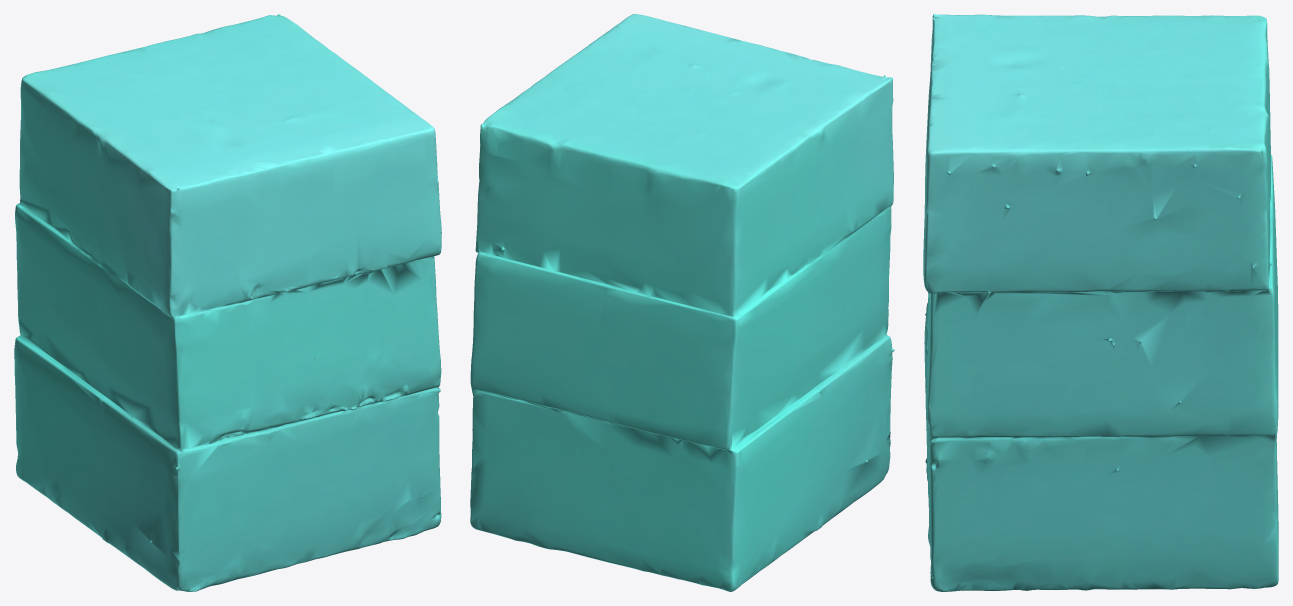
Rendered from fuda-xps.glb.
3 renders of one model, left to right at view 1: azimuth 30°, elevation 25°; view 2: azimuth 150°, elevation 25°; view 3: azimuth 270°, elevation 25°, orthographic. The views are drawn at different scales.
Parts seen in each view (by area): view 1: tripo_node_e5d89f4a-a787-4546-9eee-c9becee330d1; view 2: tripo_node_e5d89f4a-a787-4546-9eee-c9becee330d1; view 3: tripo_node_e5d89f4a-a787-4546-9eee-c9becee330d1.
Part boxes in pixels (left/top/right/bottom): tripo_node_e5d89f4a-a787-4546-9eee-c9becee330d1: left=14, top=14, right=441, bottom=591; tripo_node_e5d89f4a-a787-4546-9eee-c9becee330d1: left=470, top=14, right=894, bottom=591; tripo_node_e5d89f4a-a787-4546-9eee-c9becee330d1: left=923, top=14, right=1278, bottom=591.
Bounding box in the file's own units: 0.6977 × 1 × 0.7285.
1 material, 1 textured.
